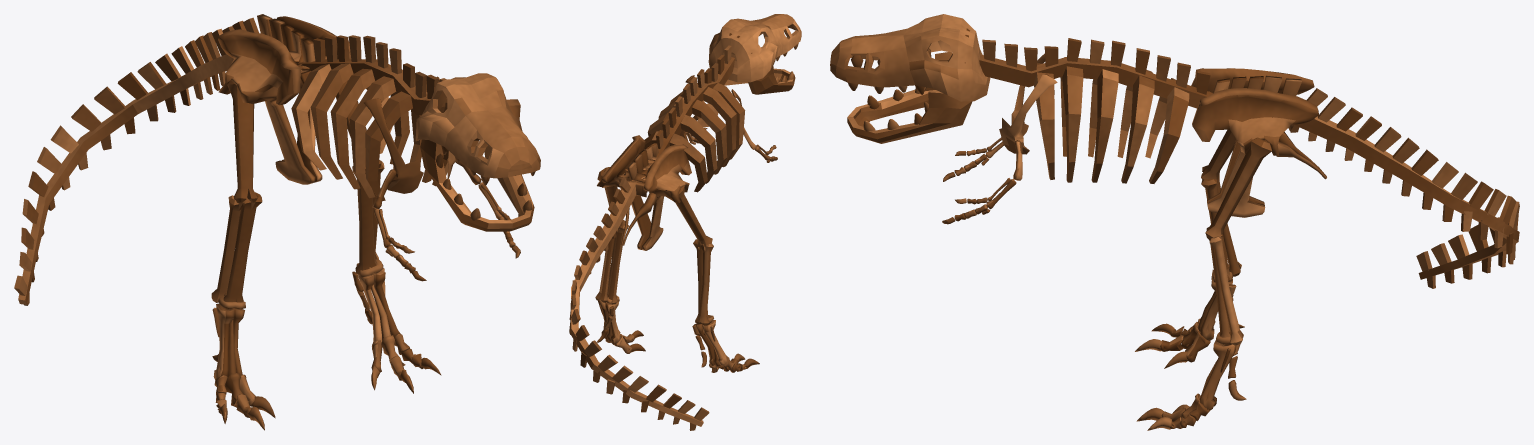
The model's file is Trex.gltf.
The picture shows the model from 3 angles, left to right: view 1: azimuth 30°, elevation 25°; view 2: azimuth 150°, elevation 25°; view 3: azimuth 270°, elevation 25°; orthographic projection. The views are drawn at different scales.
Parts seen in each view (by area): view 1: polySurface147; view 2: polySurface147; view 3: polySurface147.
Part boxes in pixels (left/top/right/bottom): polySurface147: left=14, top=14, right=540, bottom=430; polySurface147: left=569, top=14, right=801, bottom=430; polySurface147: left=830, top=14, right=1519, bottom=430.
Size of the model in its own units: 3.64 by 5.01 by 8.22.
Materials: 1 (1 with a texture image).
